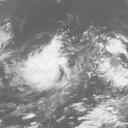cyclone: (22, 48, 70, 92)
